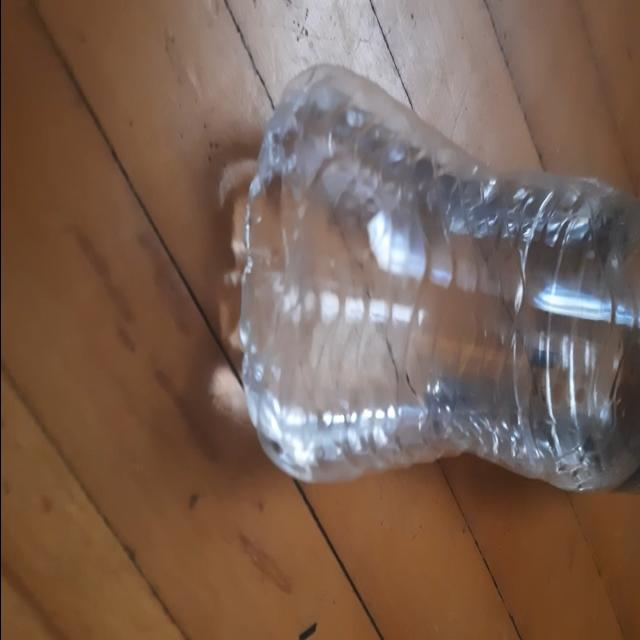Plastic: (218, 63, 640, 493)
